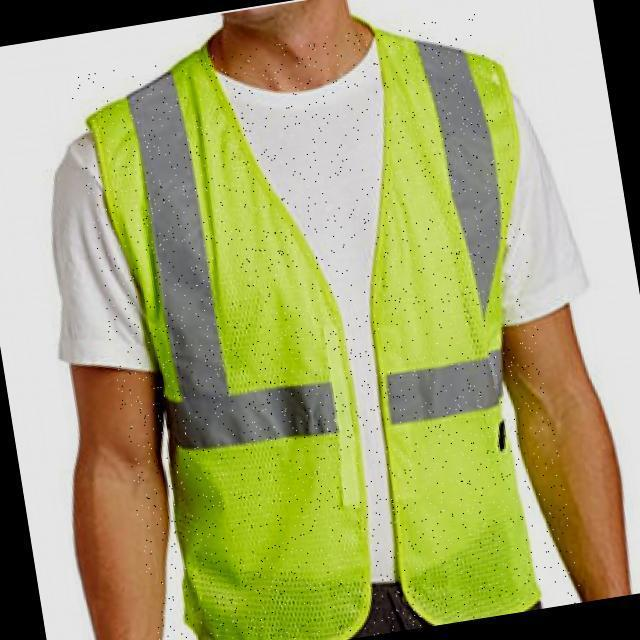vest: (67, 11, 582, 640)
